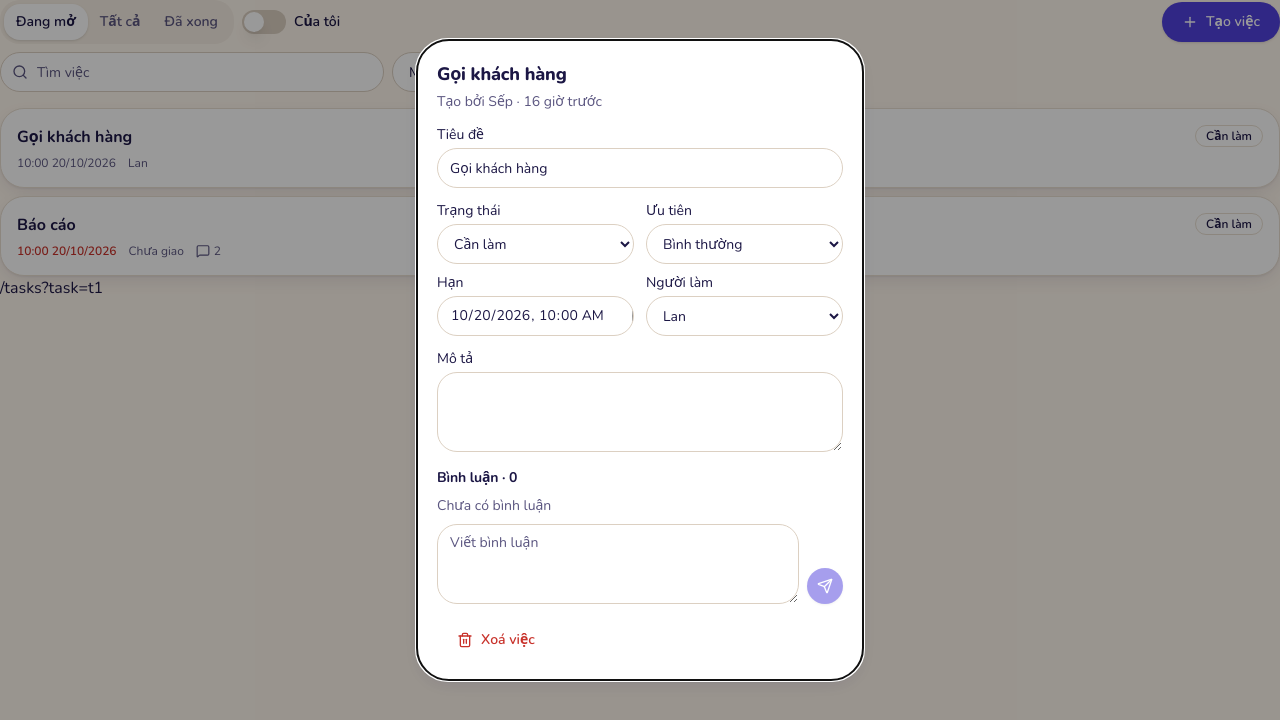
Test: TaskSheet › xoá cần xác nhận (quyền tasks.delete) rồi đóng chi tiết
The image size is (1280, 720).
Click the button with test id "task-delete".
click(496, 640)  # box [437,620,555,660]
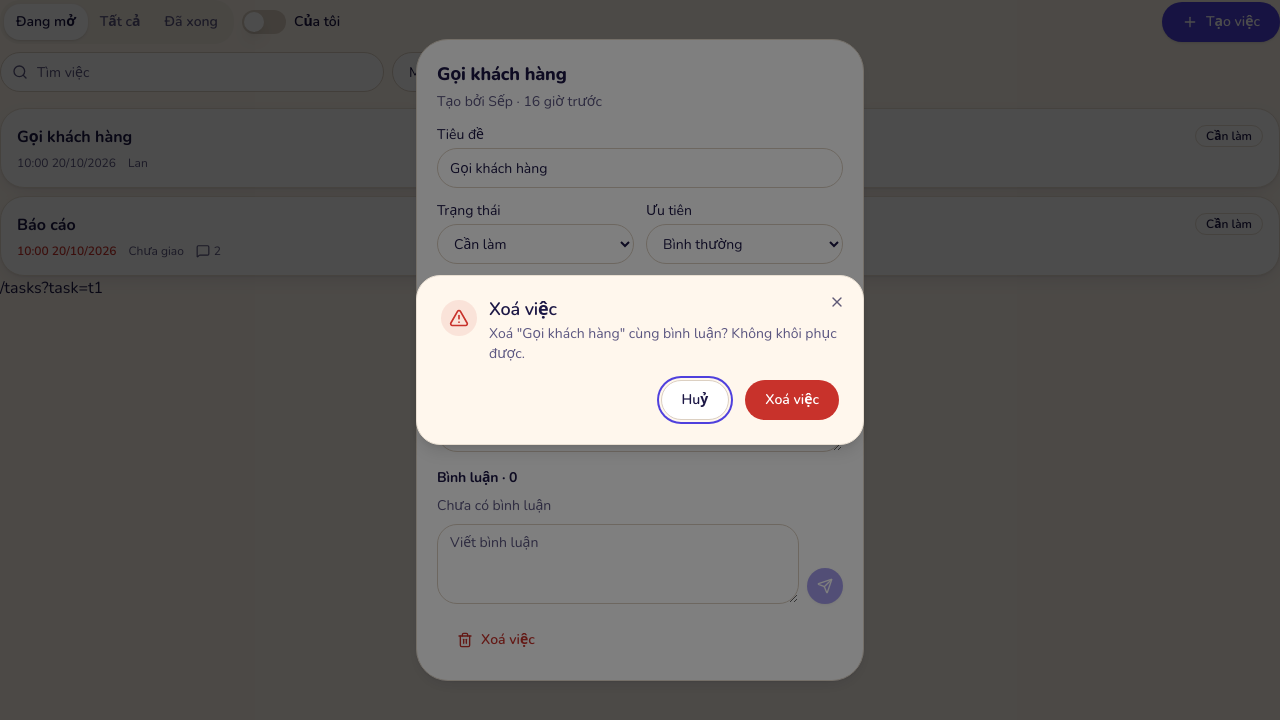
Now the text "Xoá \"Gọi khách hàng\" cùng bình luận? Không khôi phục được." is shown, box [489,324,839,364]
Click the button "Xoá việc".
click(792, 400)  # box [745,380,839,420]
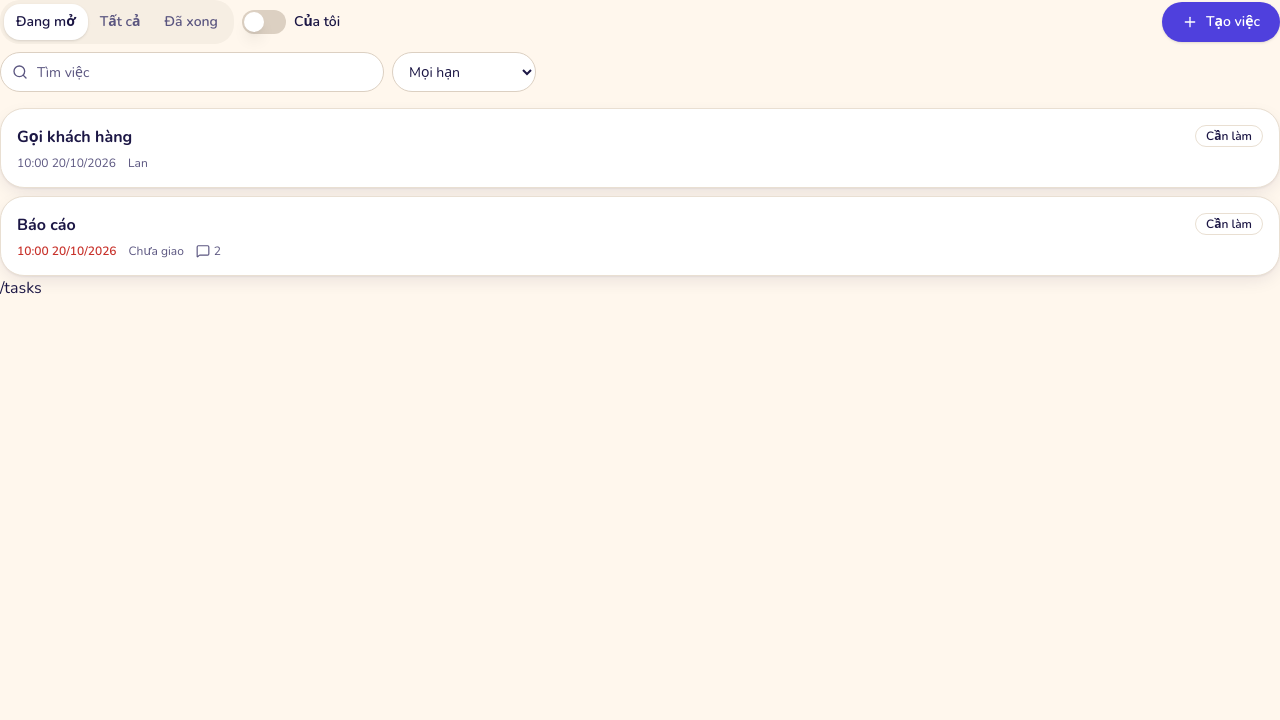
Now the text with test id "where" no longer shows "task="
